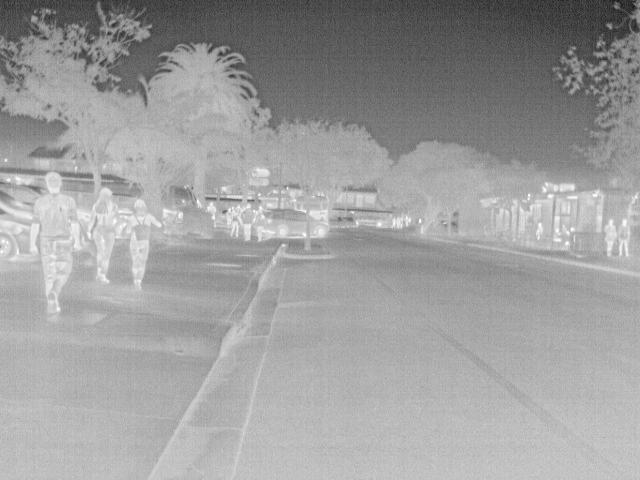car: (1, 208, 37, 264), (258, 206, 305, 239), (2, 179, 48, 212), (310, 215, 330, 239), (338, 214, 360, 228)
person: (30, 171, 84, 314), (123, 199, 165, 288), (85, 187, 122, 285), (615, 217, 635, 258), (601, 218, 620, 260), (240, 200, 257, 241), (227, 204, 245, 237), (206, 200, 219, 225), (533, 220, 546, 240), (225, 205, 237, 226), (552, 228, 565, 244), (403, 214, 411, 228), (390, 215, 399, 227)
